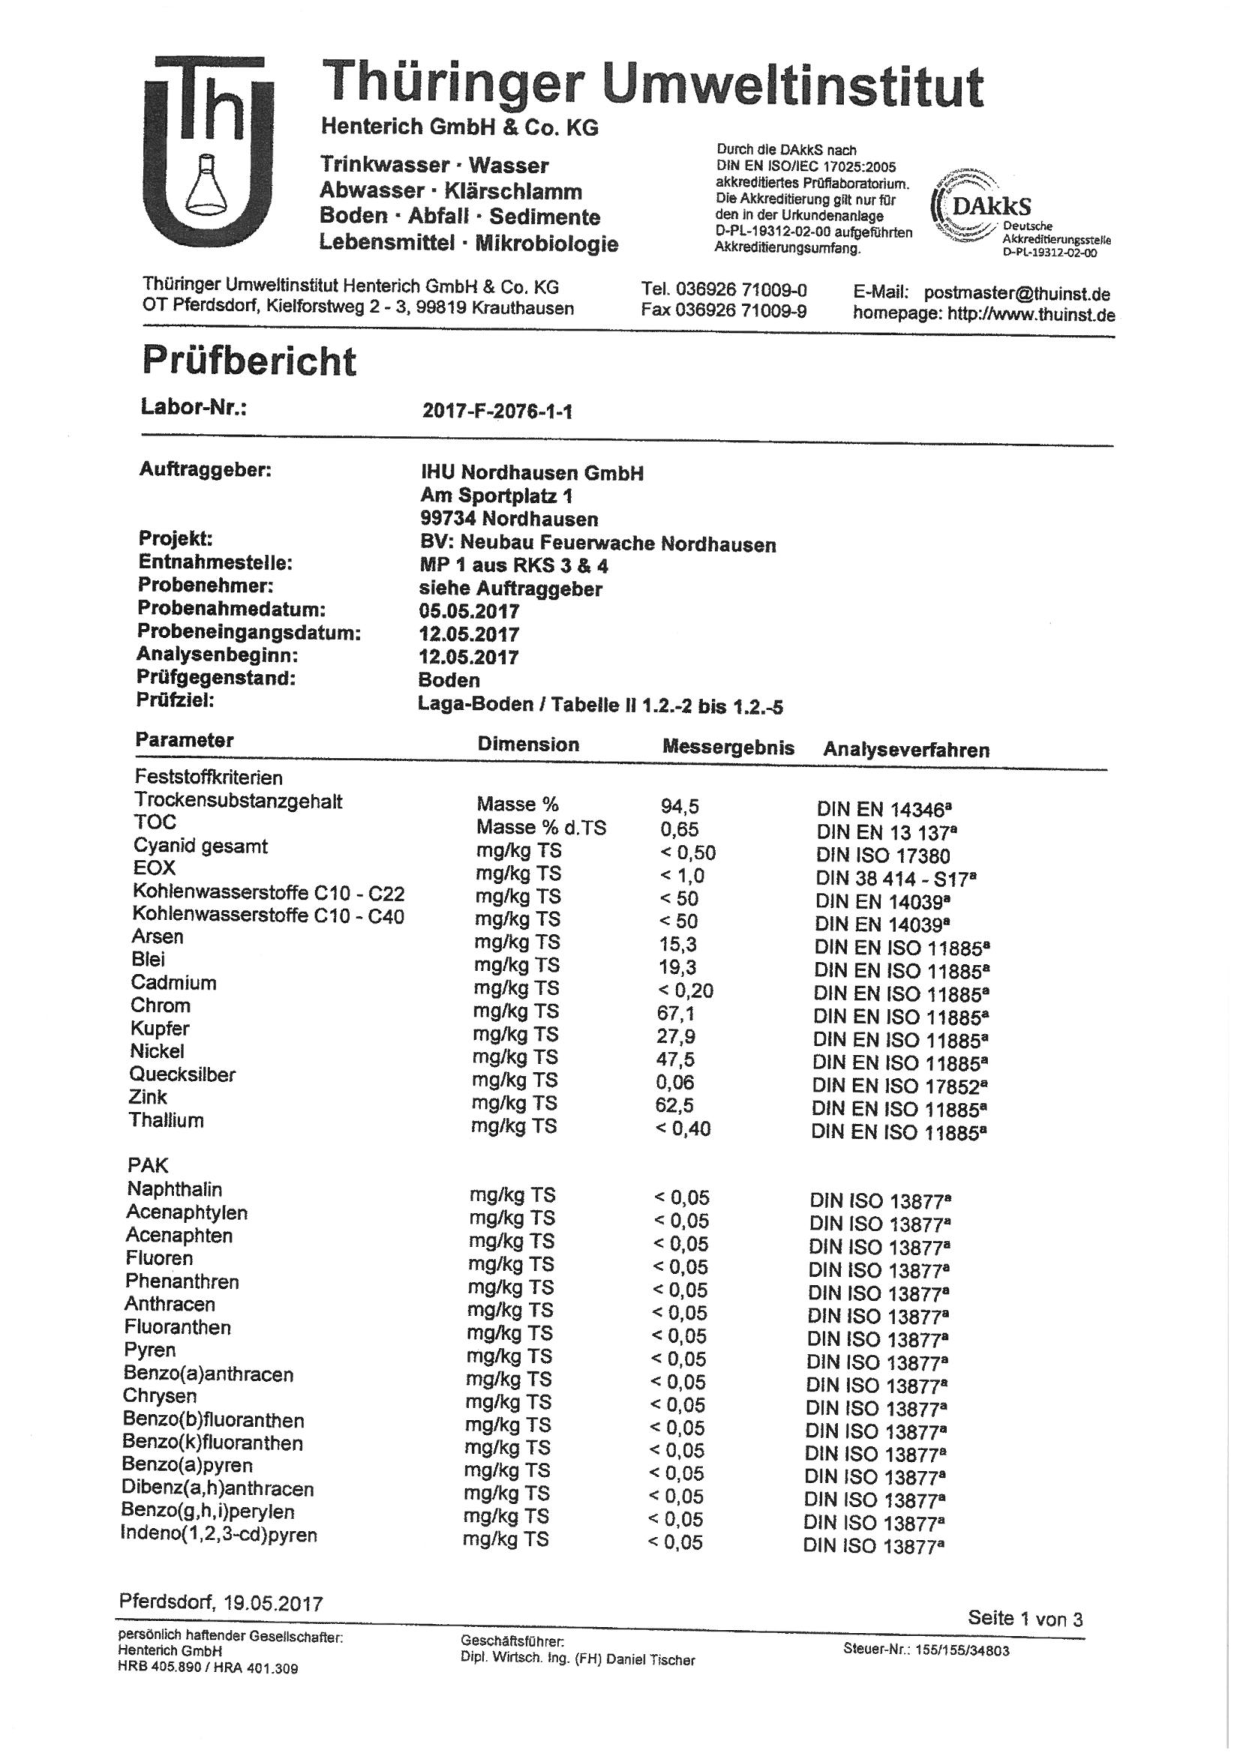table: (106, 726, 1063, 1136), (115, 1148, 985, 1570), (123, 450, 796, 723)
